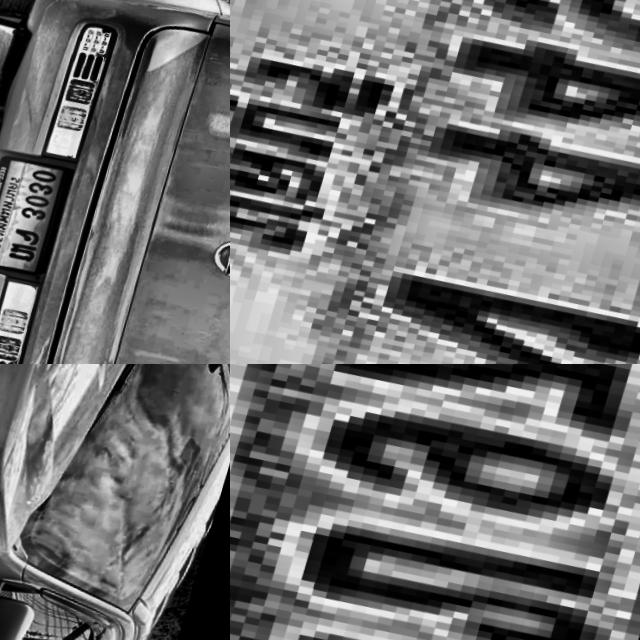license-plate: (230, 0, 640, 364), (230, 364, 640, 640), (0, 142, 83, 283)
